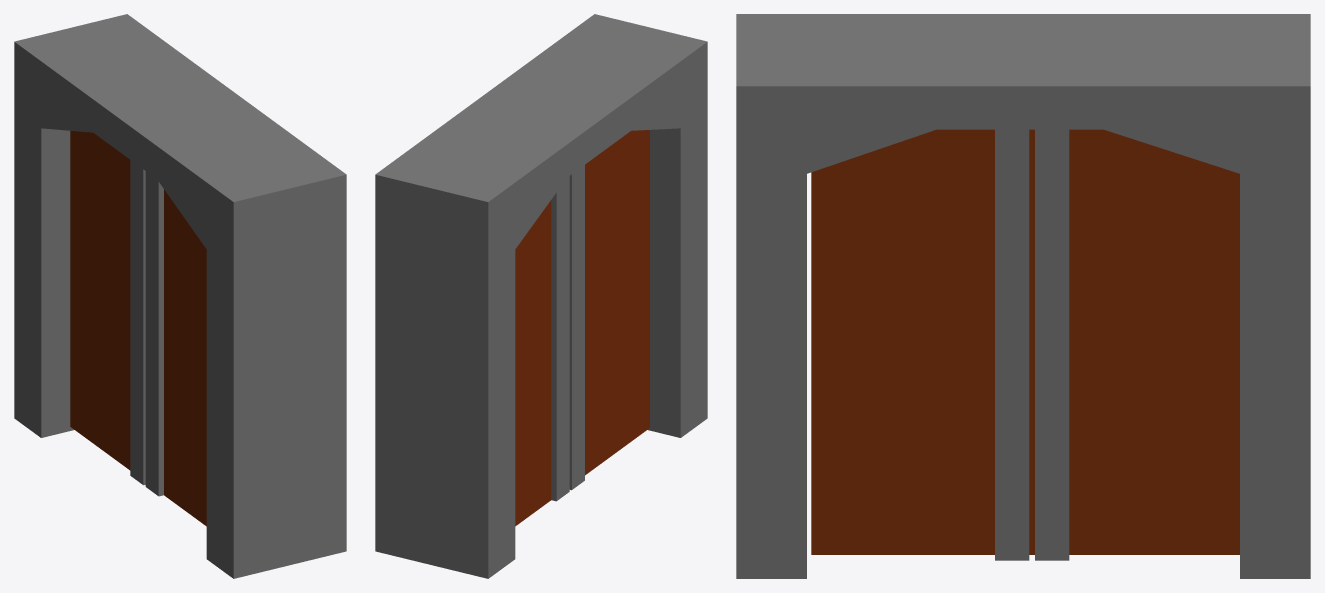
File: wall_door.fbx
3 renders of one model, left to right at view 1: azimuth 30°, elevation 25°; view 2: azimuth 150°, elevation 25°; view 3: azimuth 270°, elevation 25°, orthographic. The views are drawn at different scales.
Parts seen in each view (by area): view 1: wall_door; view 2: wall_door; view 3: wall_door.
Part boxes in pixels (x1,y1,x2,y2): wall_door: (14, 14, 346, 578); wall_door: (375, 14, 707, 578); wall_door: (736, 14, 1310, 578).
Bounding box in the file's own units: 49 × 156 × 165.
